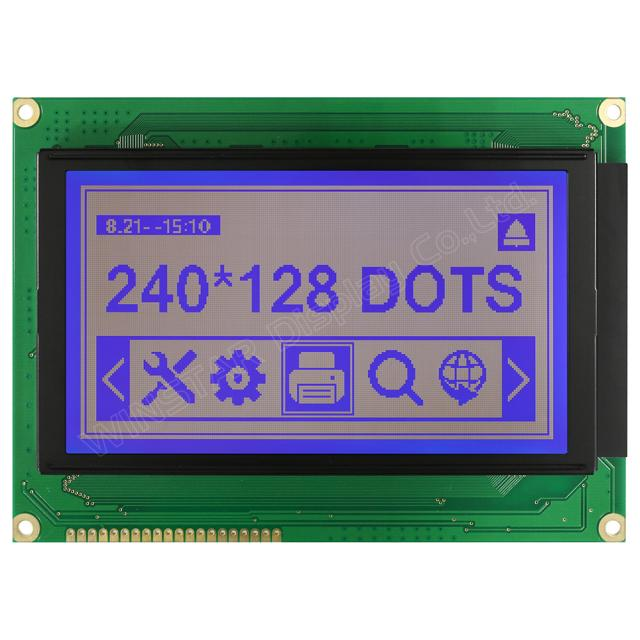Display: (0, 72, 640, 545)
